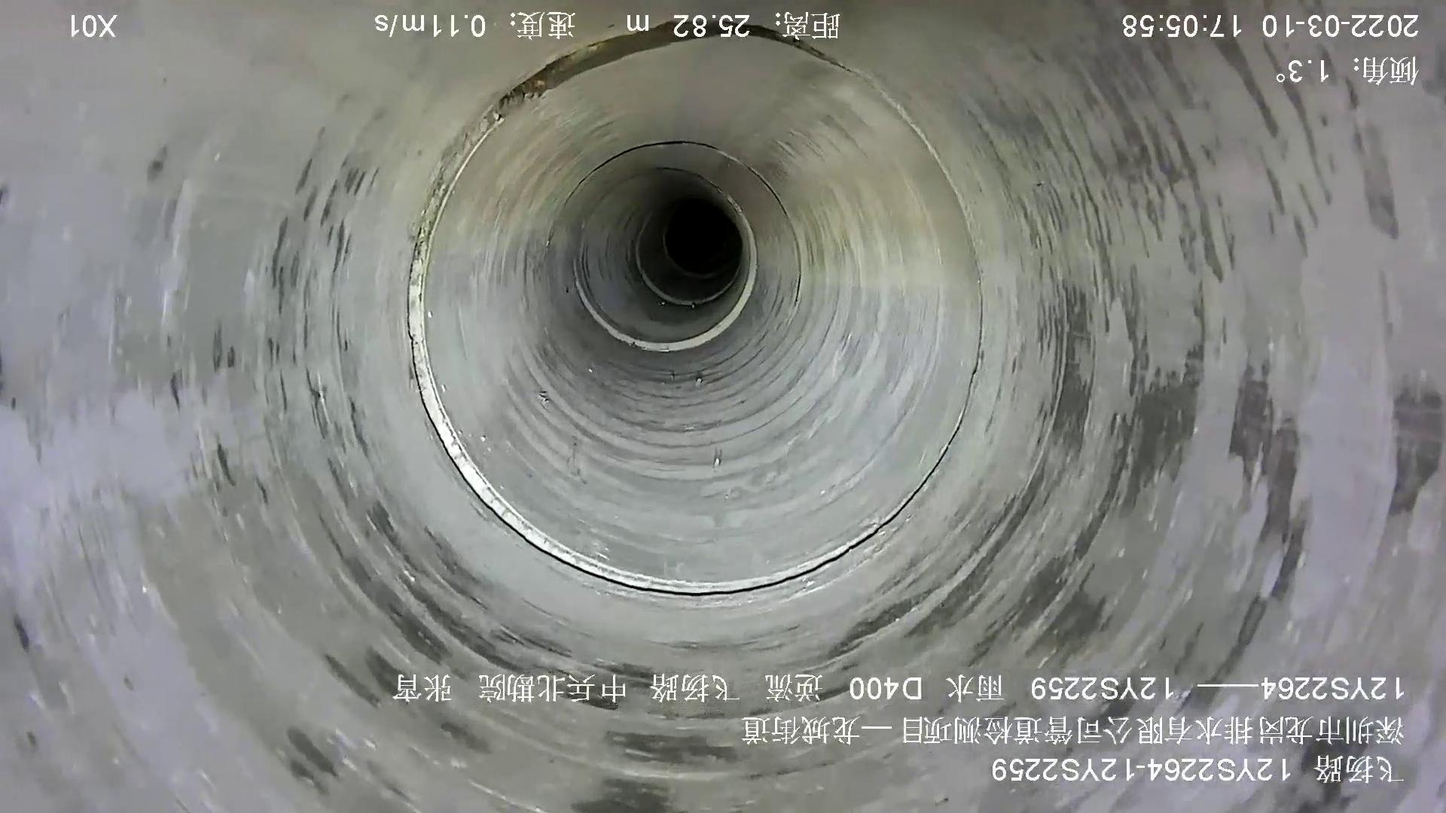CKTJ: (406, 102, 984, 597), (579, 179, 758, 352), (634, 209, 739, 306)
